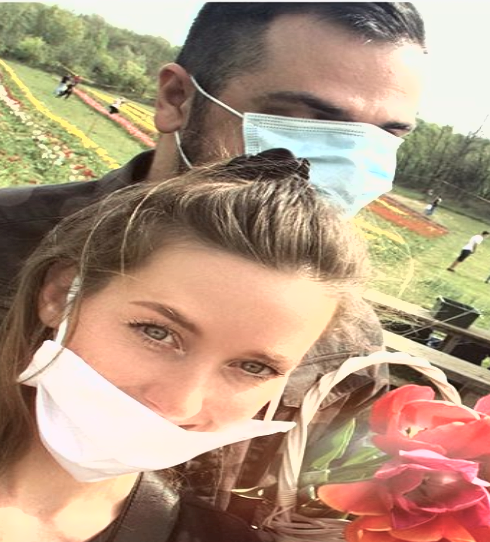mask_weared_incorrect: (24, 190, 341, 482), (154, 2, 438, 224)
